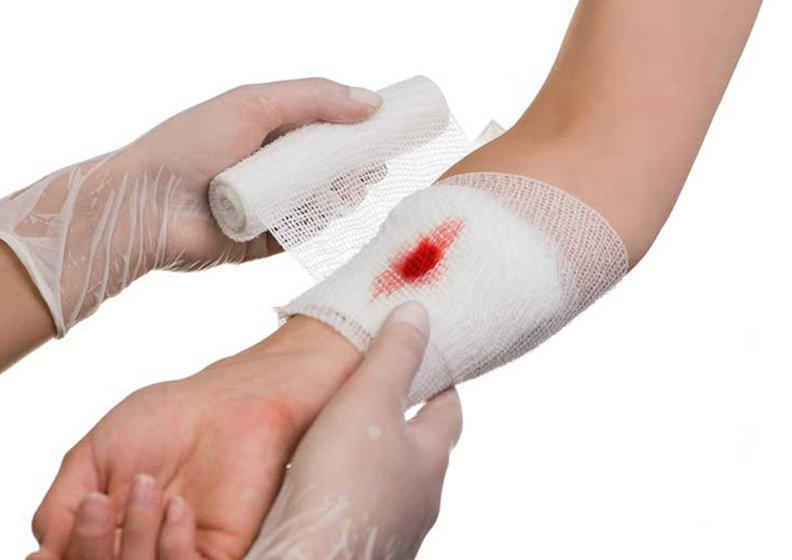Fire: (373, 218, 464, 298)
